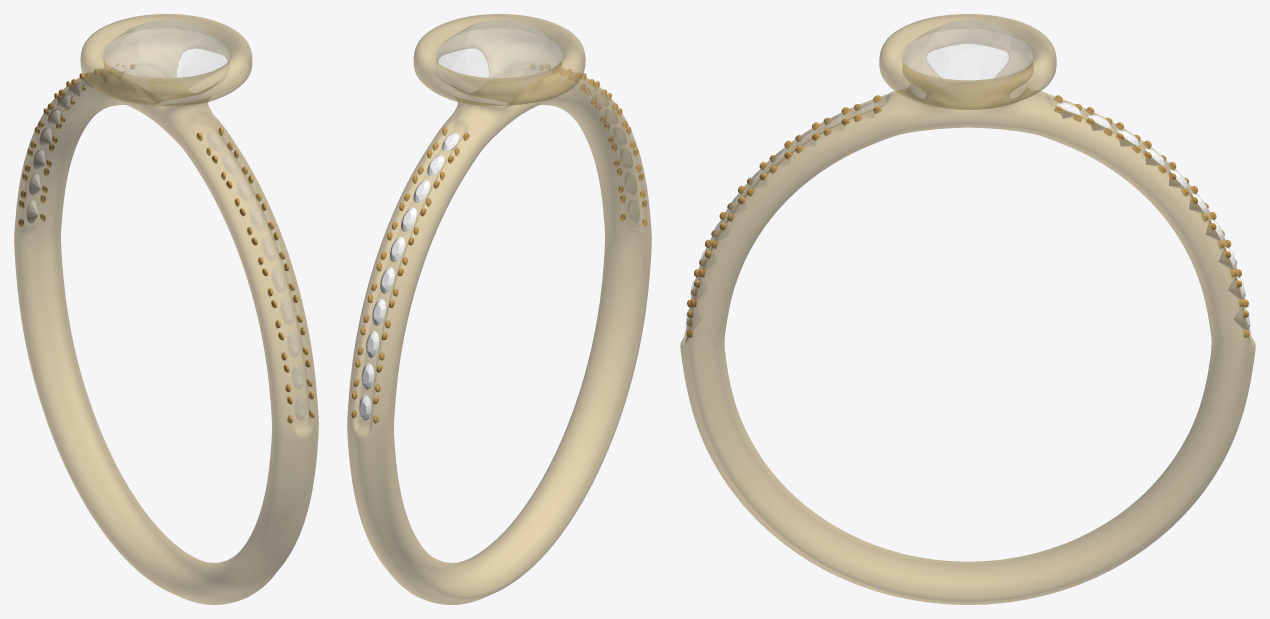
3 renders of one model, left to right at view 1: azimuth 30°, elevation 25°; view 2: azimuth 150°, elevation 25°; view 3: azimuth 270°, elevation 25°, orthographic. The views are drawn at different scales.
Visible parts, largest first — view 1: Ring, Diamond; view 2: Ring, Diamond; view 3: Ring, Diamond.
Boxes of the visible parts, box(x1,y1,x2,y2) form: Ring: box(14, 14, 318, 604); Diamond: box(26, 21, 306, 420); Ring: box(347, 14, 651, 604); Diamond: box(359, 21, 639, 420); Ring: box(680, 14, 1255, 604); Diamond: box(686, 20, 1250, 329).
Bounding box in the file's own units: 0.7209 × 2.55 × 2.34.
